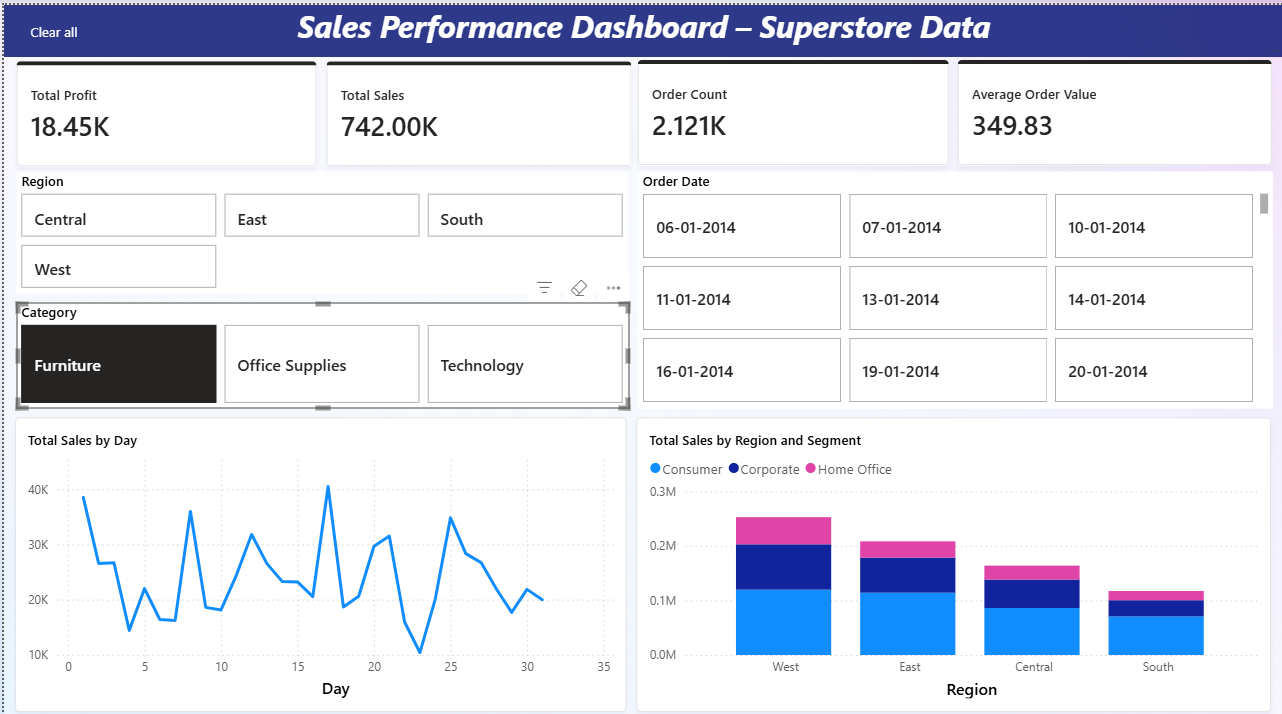

The dashboard page shown, as its layout file describes it:
{"tool":"powerbi","page":{"name":"Top 10 products based on total sales.","canvas":[1280,720],"ordinal":1},"visuals":[{"type":"advancedSlicerVisual","fields":{"Values":["Orders.Region"]},"box":[12.5,166.2,611.2,122.5],"z":0},{"type":"advancedSlicerVisual","fields":{"Values":["Orders.Category"]},"box":[12.5,297.5,612.5,106.2],"z":2000},{"type":"textbox","title":"Sales Performance Dashboard – Superstore Data","box":[0,0,1280,51.7],"z":3000},{"type":"cardVisual","fields":{"Data":["Orders.Total Profit"]},"box":[12.5,56,300.7,105.7],"z":3000,"group":"g1"},{"type":"cardVisual","fields":{"Data":["Orders.Total Sales"]},"box":[322.3,55.7,305.7,105],"z":4000,"group":"g1"},{"type":"advancedSlicerVisual","fields":{"Values":["Orders.Order Date"]},"box":[633.8,166.2,635,237.5],"z":4000},{"type":"cardVisual","fields":{"Data":["Orders.Order Count"]},"box":[634.2,55.1,311.3,105.6],"z":5000,"group":"g1"},{"type":"lineChart","fields":{"Category":["Orders.Order Date.Variation.Date Hierarchy.Day"],"Y":["Orders.Total Sales"]},"box":[11.4,412.9,611.4,294.3],"z":5000},{"type":"cardVisual","fields":{"Data":["Orders.Average Order Value"]},"box":[954.1,55,315,105.6],"z":6000,"group":"g1"},{"type":"columnChart","fields":{"Category":["Orders.Region"],"Series":["Orders.Segment"],"Y":["Orders.Total Sales"]},"box":[632.9,412.9,634.3,294.3],"z":6000},{"type":"group","id":"g1","title":"Group 2","box":[12.5,55,1256.2,106.2],"z":7000},{"type":"actionButton","box":[0,6.2,100,40],"z":8000}]}

Visuals, with their boxes in screenshot pixels (x1, y1, x2, y2), scaled from the page's 1280x720 canvas onto the 1282x714 screenshot:
advancedSlicerVisual - Orders.Region: {"x1": 13, "y1": 165, "x2": 625, "y2": 286}
advancedSlicerVisual - Orders.Category: {"x1": 13, "y1": 295, "x2": 626, "y2": 400}
"Sales Performance Dashboard – Superstore Data" textbox: {"x1": 0, "y1": 0, "x2": 1281, "y2": 51}
cardVisual - Orders.Total Profit: {"x1": 13, "y1": 56, "x2": 314, "y2": 160}
cardVisual - Orders.Total Sales: {"x1": 323, "y1": 55, "x2": 629, "y2": 159}
advancedSlicerVisual - Orders.Order Date: {"x1": 635, "y1": 165, "x2": 1271, "y2": 400}
cardVisual - Orders.Order Count: {"x1": 635, "y1": 55, "x2": 947, "y2": 159}
lineChart - Orders.Order Date.Variation.Date Hierarchy.Day x Orders.Total Sales: {"x1": 11, "y1": 409, "x2": 624, "y2": 701}
cardVisual - Orders.Average Order Value: {"x1": 956, "y1": 55, "x2": 1271, "y2": 159}
columnChart - Orders.Region x Orders.Segment: {"x1": 634, "y1": 409, "x2": 1269, "y2": 701}
"Group 2" group: {"x1": 13, "y1": 55, "x2": 1271, "y2": 160}
actionButton: {"x1": 0, "y1": 6, "x2": 100, "y2": 46}
